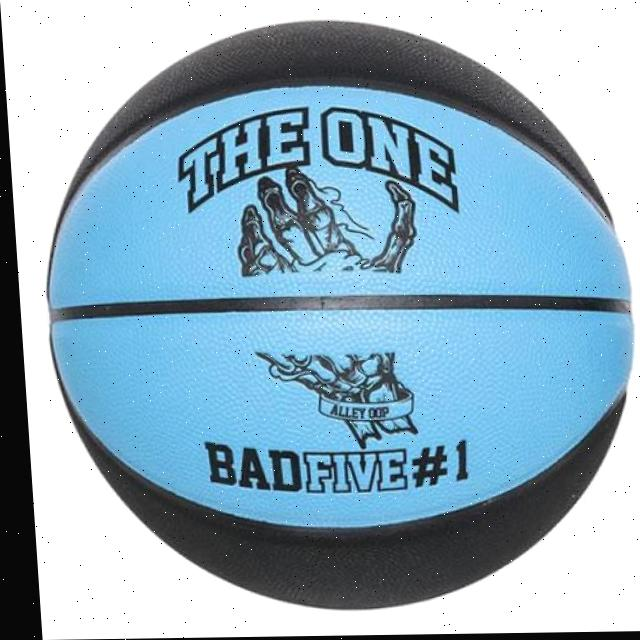Basketball: (27, 15, 640, 612)
